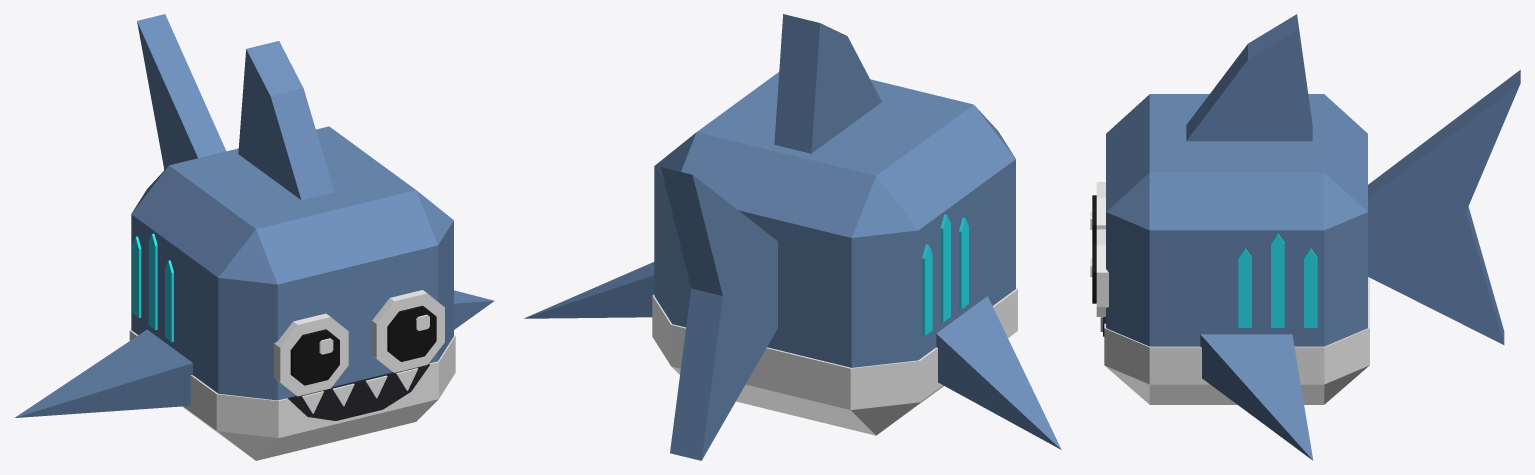
File: Shark.fbx
3 renders of one model, left to right at view 1: azimuth 30°, elevation 25°; view 2: azimuth 150°, elevation 25°; view 3: azimuth 270°, elevation 25°, orthographic. The views are drawn at different scales.
Parts seen in each view (by area): view 1: Shark, Shark_Fins, Shark_White, Shark_Eyes, Shark_Pupils, Shark_Mouth, Shark_Gills, Shark_Teeth; view 2: Shark, Shark_Fins, Shark_White, Shark_Gills; view 3: Shark, Shark_Fins, Shark_White, Shark_Gills, Shark_Eyes, Shark_Pupils.
Part boxes in pixels (left/top/right/bottom): Shark: left=131, top=126, right=453, bottom=400; Shark_Fins: left=15, top=14, right=494, bottom=417; Shark_White: left=129, top=328, right=455, bottom=460; Shark_Eyes: left=274, top=290, right=444, bottom=396; Shark_Pupils: left=290, top=305, right=436, bottom=385; Shark_Mouth: left=287, top=364, right=429, bottom=420; Shark_Gills: left=132, top=233, right=173, bottom=341; Shark_Teeth: left=302, top=368, right=417, bottom=413; Shark: left=654, top=72, right=1015, bottom=367; Shark_Fins: left=524, top=14, right=1061, bottom=460; Shark_White: left=652, top=287, right=1017, bottom=435; Shark_Gills: left=922, top=214, right=968, bottom=335; Shark: left=1106, top=94, right=1367, bottom=346; Shark_Fins: left=1186, top=14, right=1520, bottom=460; Shark_White: left=1104, top=277, right=1369, bottom=404; Shark_Gills: left=1238, top=233, right=1317, bottom=327; Shark_Eyes: left=1090, top=182, right=1108, bottom=316; Shark_Pupils: left=1092, top=195, right=1096, bottom=303.
Size of the model in its own units: 4.08 by 2.78 by 3.16.
